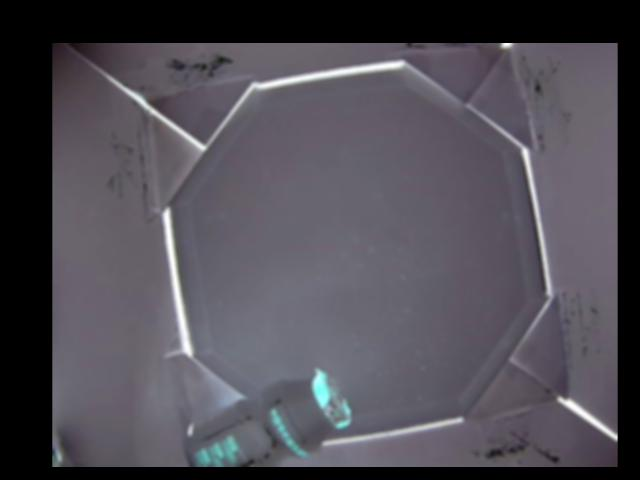Bottle: (182, 368, 350, 466)
